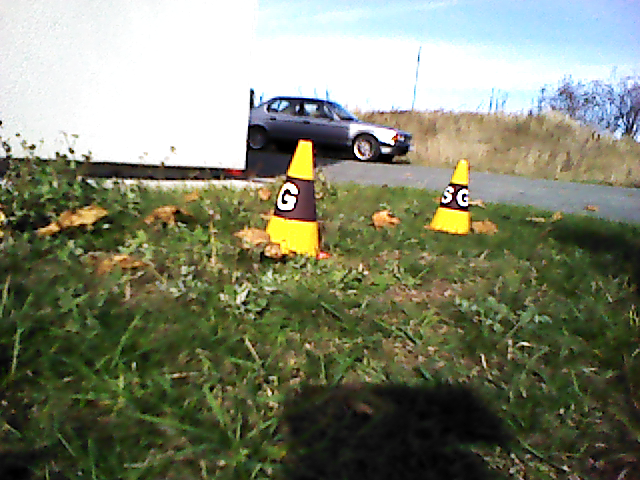yellowcone: (264, 138, 319, 256), (434, 160, 469, 233)
